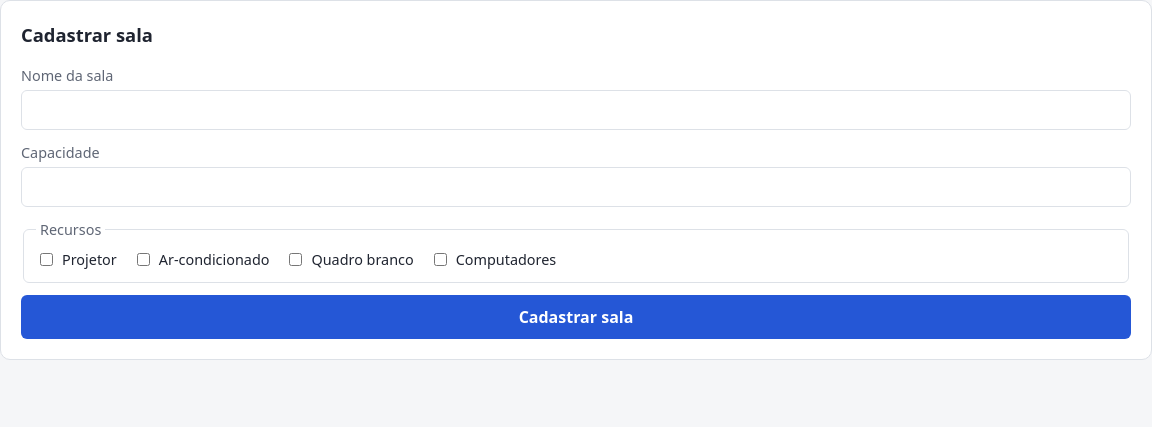
Test: RoomForm › exibe a mensagem de validação quando o cadastro é recusado
Click the button "Cadastrar sala": (576, 317) [21, 295, 1131, 339]
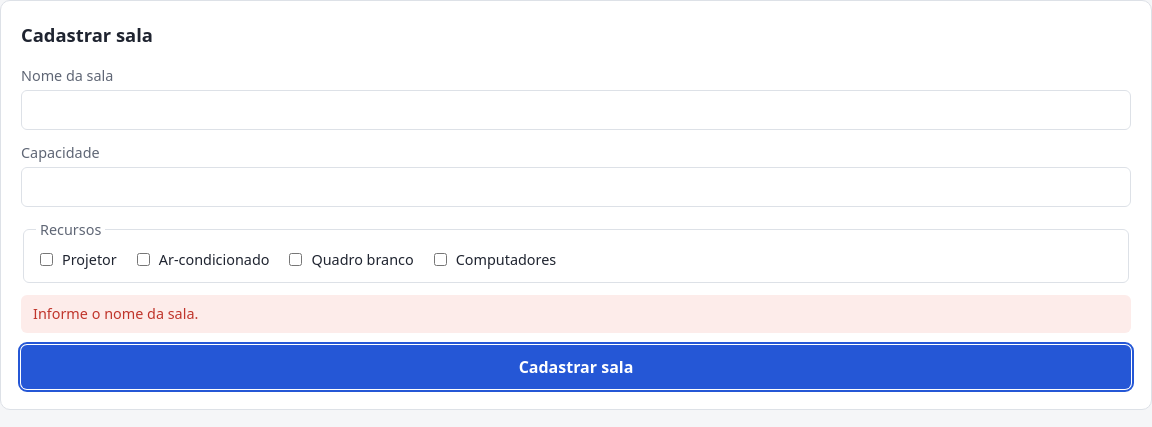
Expected: the message reads "Informe o nome da sala.", [33, 304, 198, 323]
